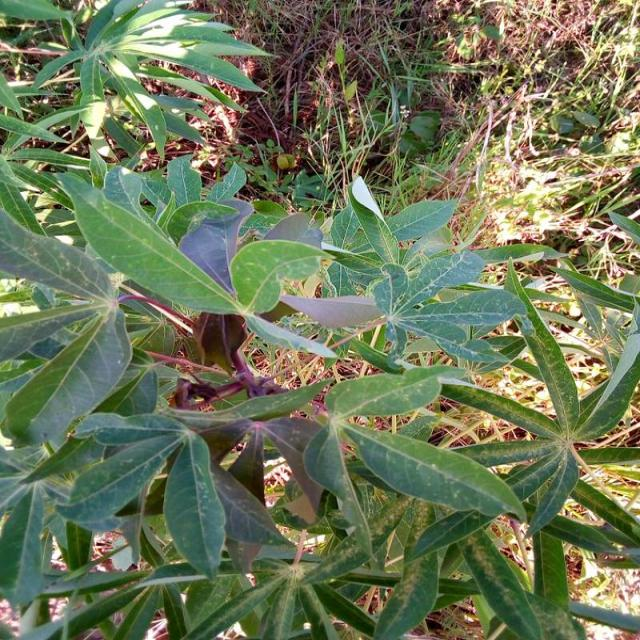cassava leaf: (0, 157, 638, 638), (337, 419, 527, 524)
